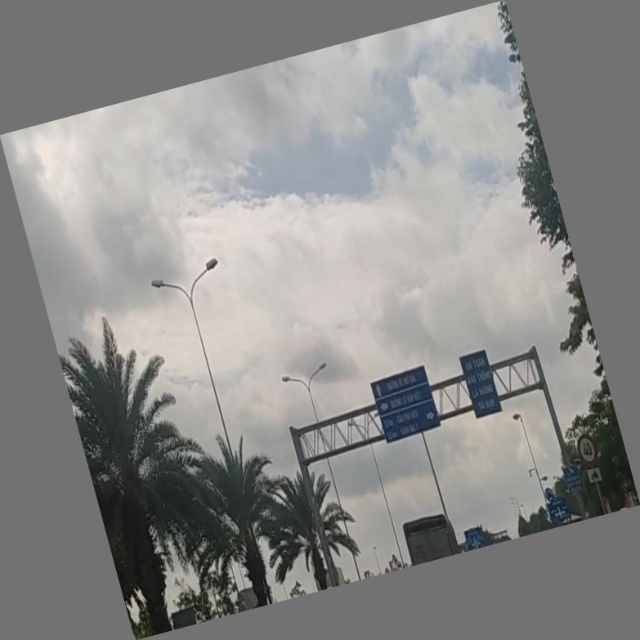P.127*40: (574, 431, 600, 467)
S.505a*Xe may: (584, 463, 606, 486)
